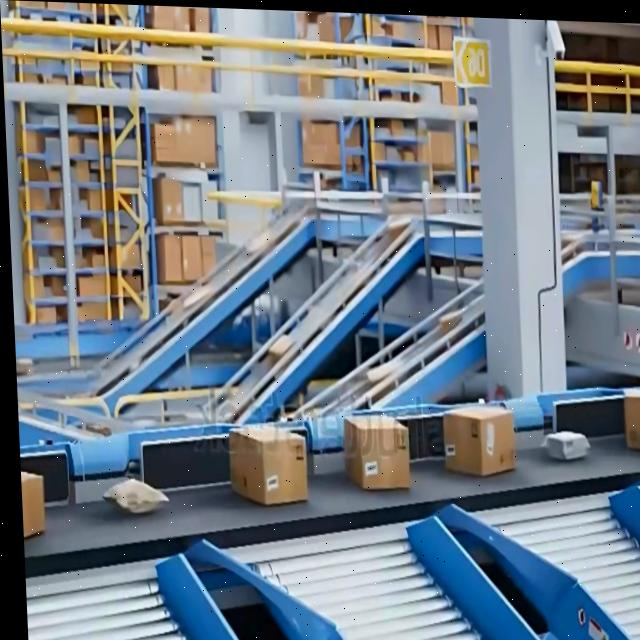product 1: (228, 423, 310, 507), (442, 402, 517, 477), (342, 413, 412, 491)
product 2: (542, 428, 579, 461)
